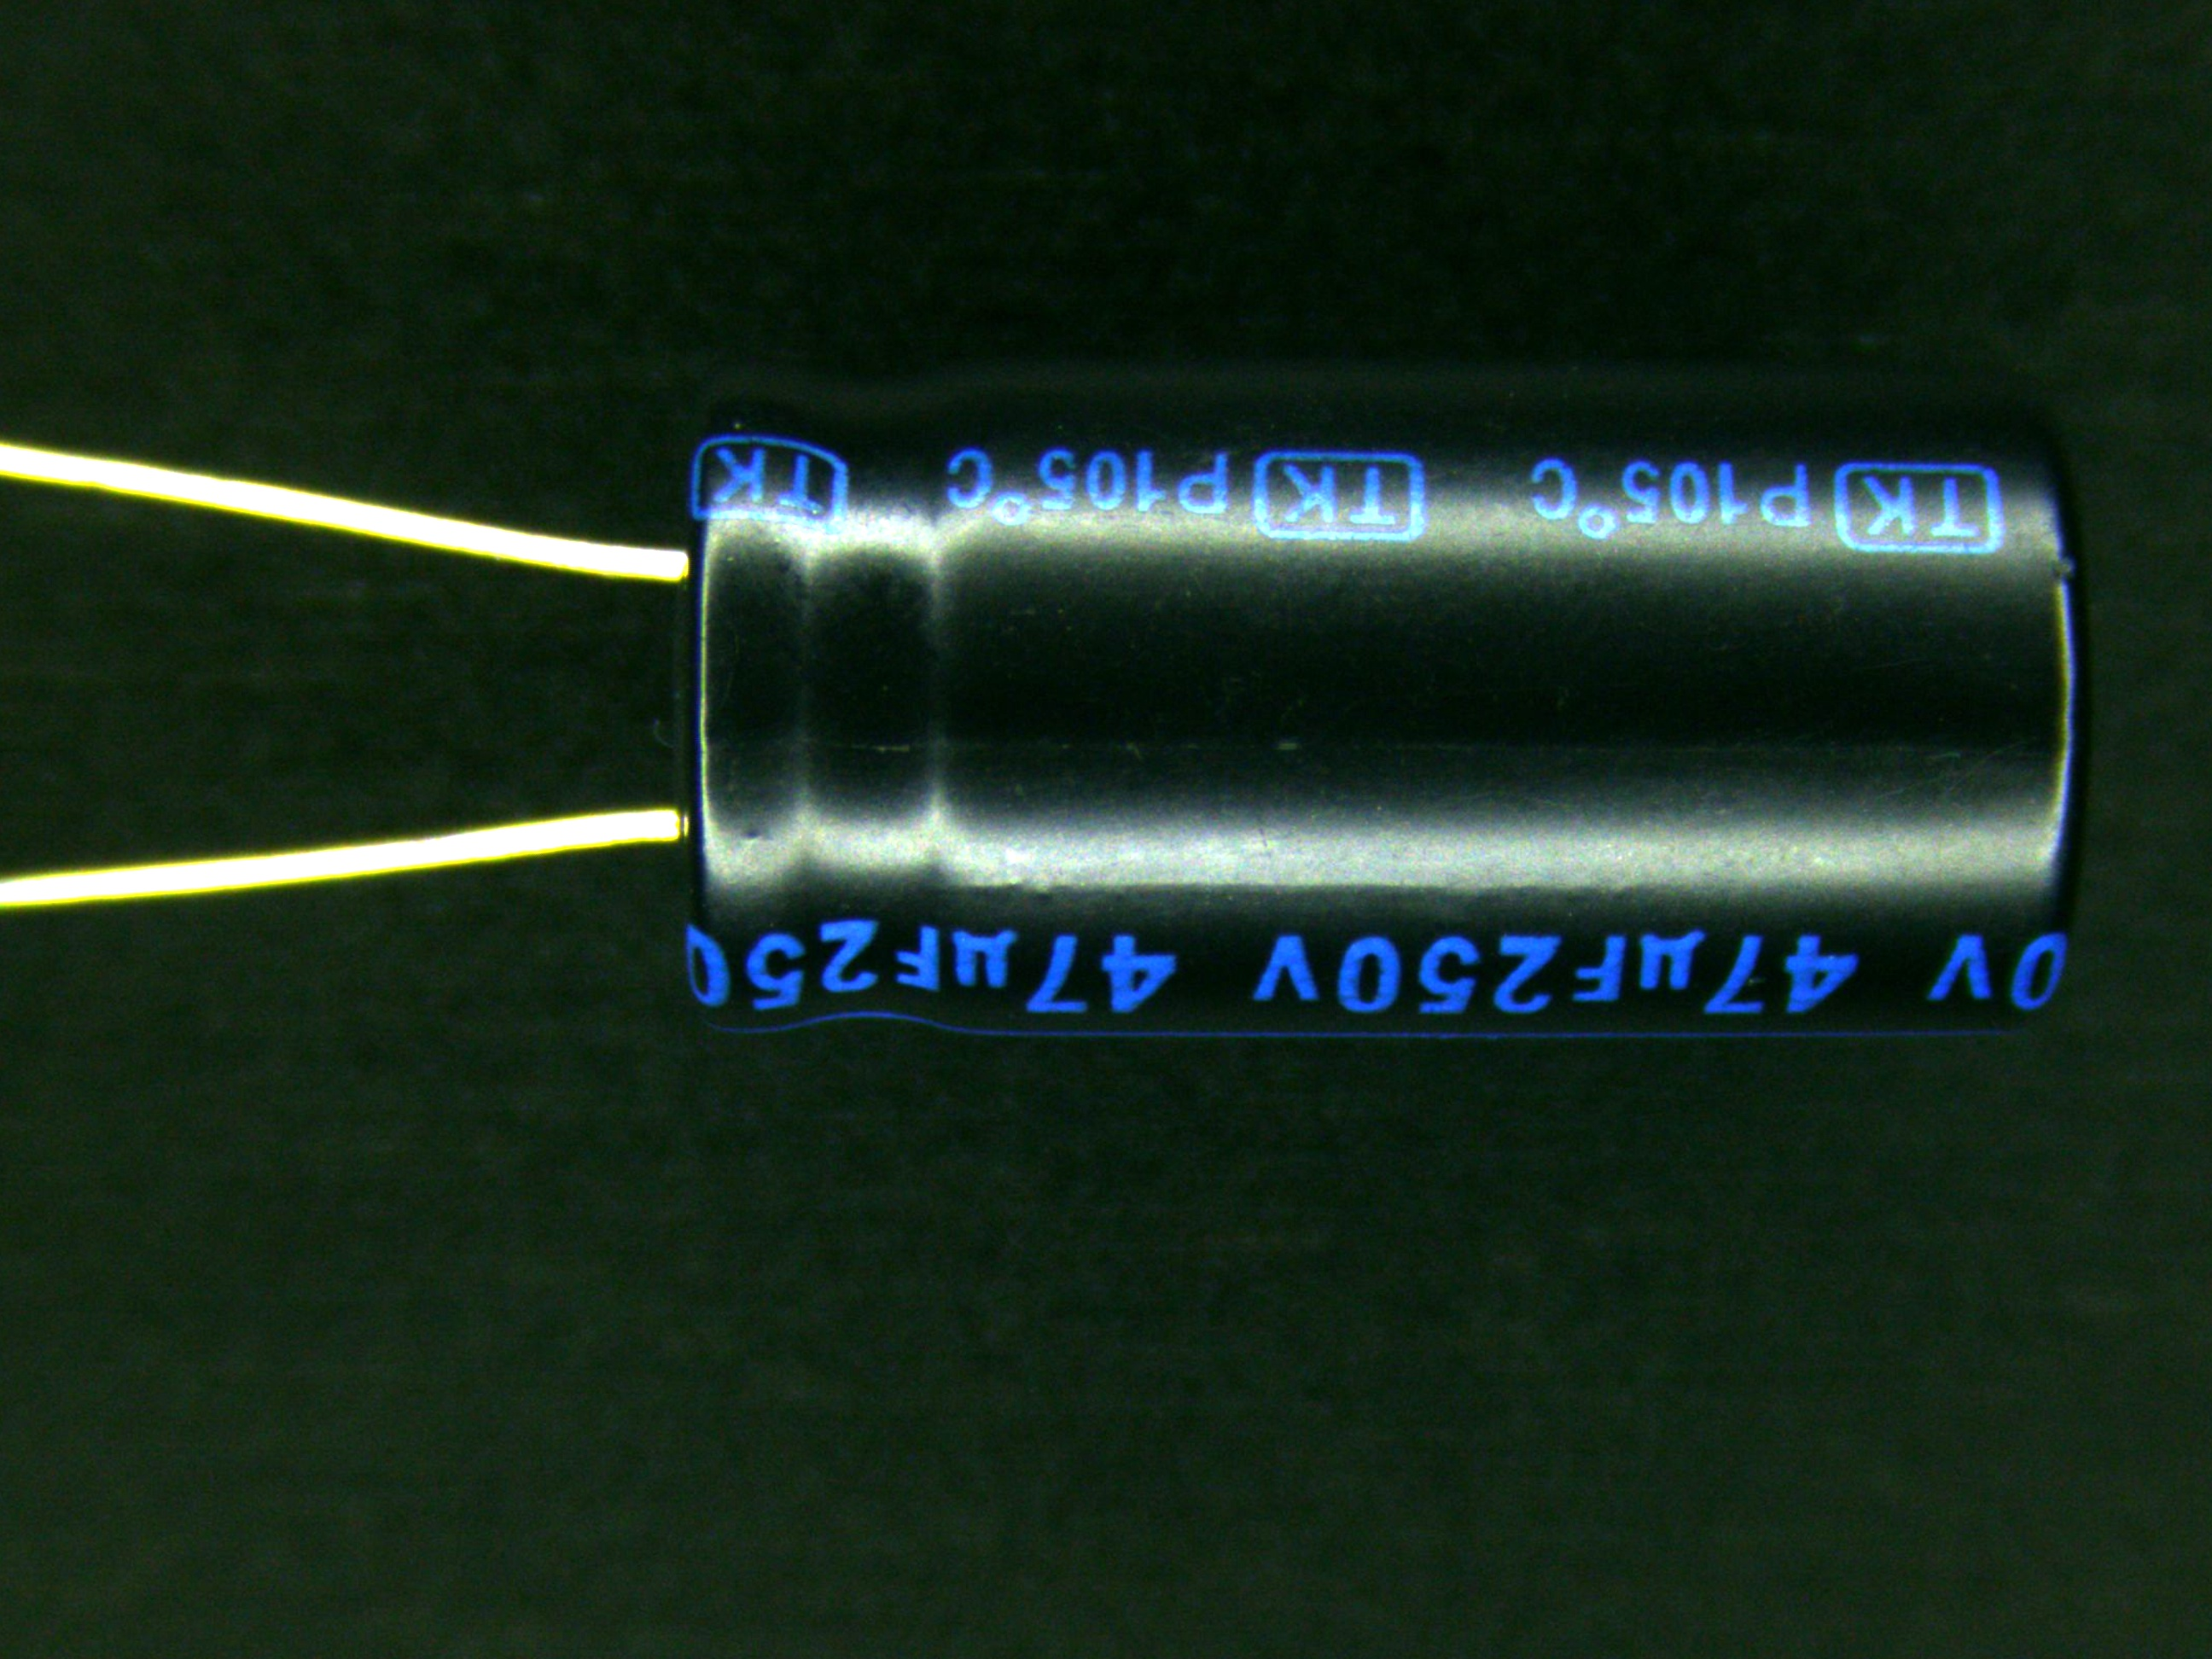c2: (472, 371, 2101, 1040)
